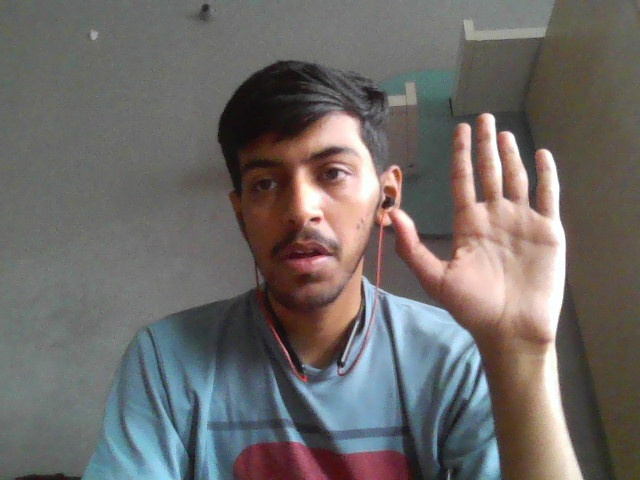Hello: (386, 108, 576, 341)
